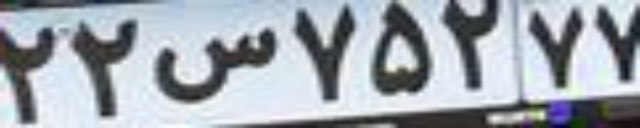2: (67, 17, 140, 117), (442, 1, 506, 92), (0, 22, 52, 123)
5: (374, 2, 434, 95)
7: (289, 3, 365, 101), (527, 4, 583, 90), (595, 2, 639, 85)
sin: (154, 26, 279, 103)
